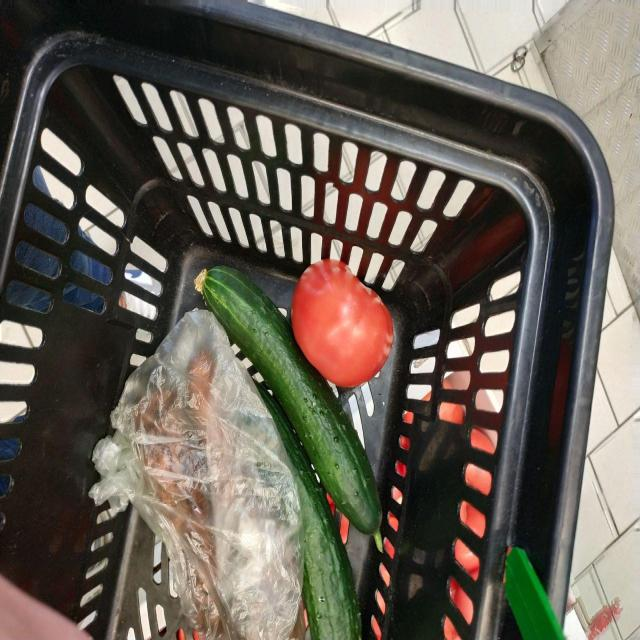Cucumber: (201, 267, 381, 547), (257, 383, 361, 640)
Tomatoes: (291, 260, 394, 387)
